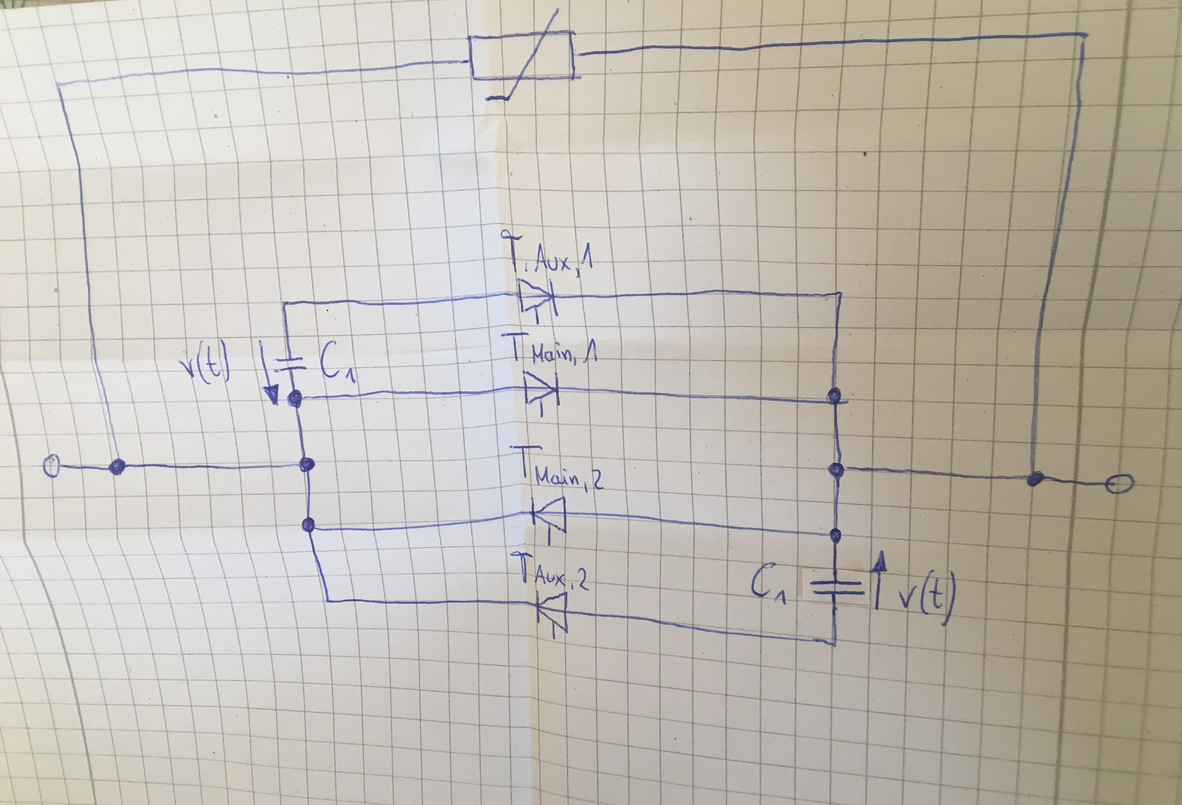capacitor.unpolarized: (807, 575, 868, 599), (271, 352, 309, 376)
junction: (284, 387, 310, 413), (824, 385, 850, 409), (105, 455, 130, 479), (826, 460, 850, 483), (297, 454, 318, 475), (1074, 25, 1095, 46), (299, 515, 319, 537), (1025, 469, 1046, 489), (827, 526, 845, 546), (826, 636, 843, 653), (276, 296, 294, 311), (833, 287, 848, 303), (50, 77, 65, 90), (322, 595, 334, 608)
terminal: (1103, 470, 1138, 496), (41, 452, 67, 479)
text: (507, 442, 606, 495), (499, 227, 596, 279), (895, 565, 962, 629), (499, 330, 601, 368), (509, 549, 591, 593), (176, 338, 233, 388), (317, 338, 359, 385), (749, 560, 789, 607)
thyristor: (516, 275, 560, 321), (533, 588, 571, 637), (528, 494, 570, 538), (520, 368, 562, 410)
varistor: (464, 5, 584, 105)
